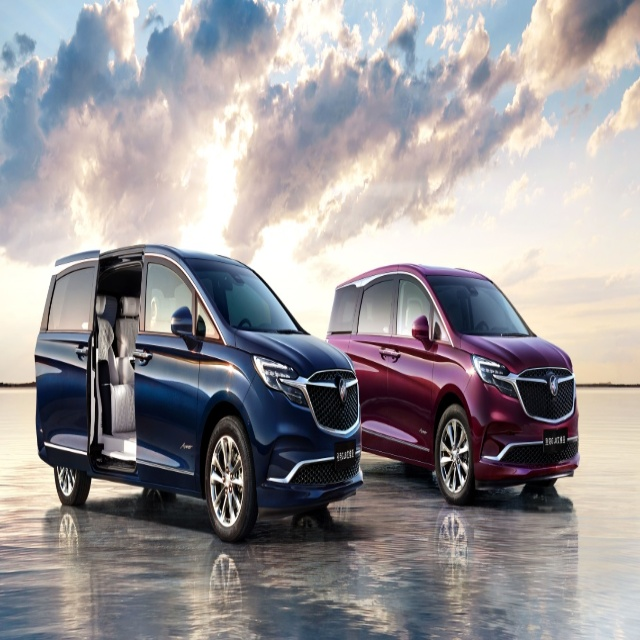Car: (35, 243, 363, 547), (326, 263, 581, 507)
